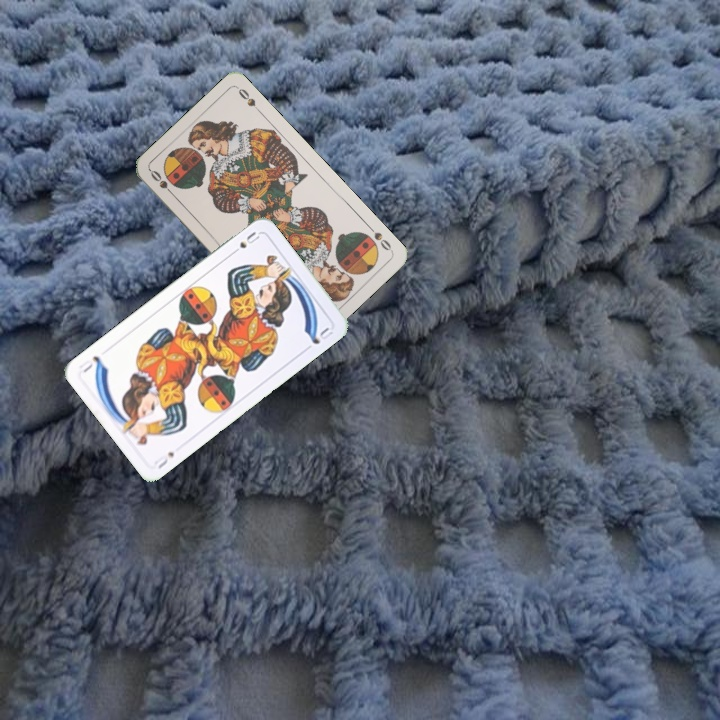SO: (146, 166, 178, 199), (364, 221, 395, 254)
SU: (226, 227, 262, 258), (151, 447, 177, 471)
